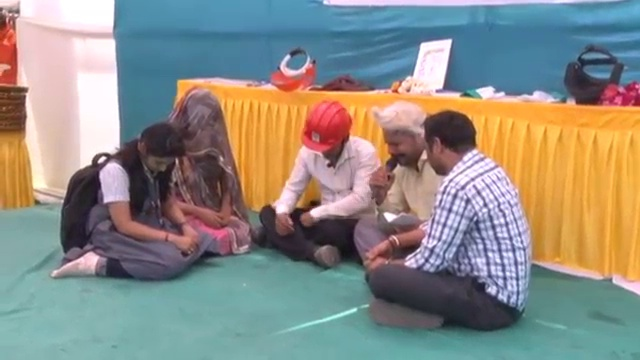helmet: (296, 96, 353, 153)
helmet_off: (423, 110, 479, 179), (379, 101, 429, 171), (132, 117, 186, 181), (170, 88, 224, 152)
helmet_on: (293, 96, 356, 169)
person: (359, 103, 531, 328), (51, 117, 206, 280), (249, 95, 388, 264), (157, 81, 255, 254), (351, 105, 445, 272)
